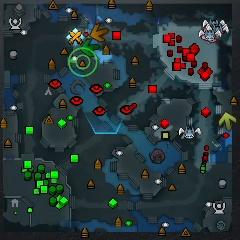Other: (68, 47, 97, 76), (67, 29, 84, 45)
x2: (219, 113, 236, 130)
x4: (82, 38, 100, 57)
x5: (90, 25, 109, 42)
